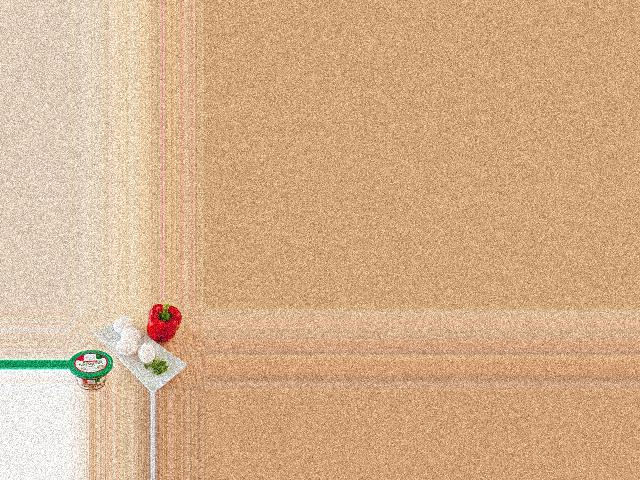bell_pepper: (140, 304, 184, 341)
